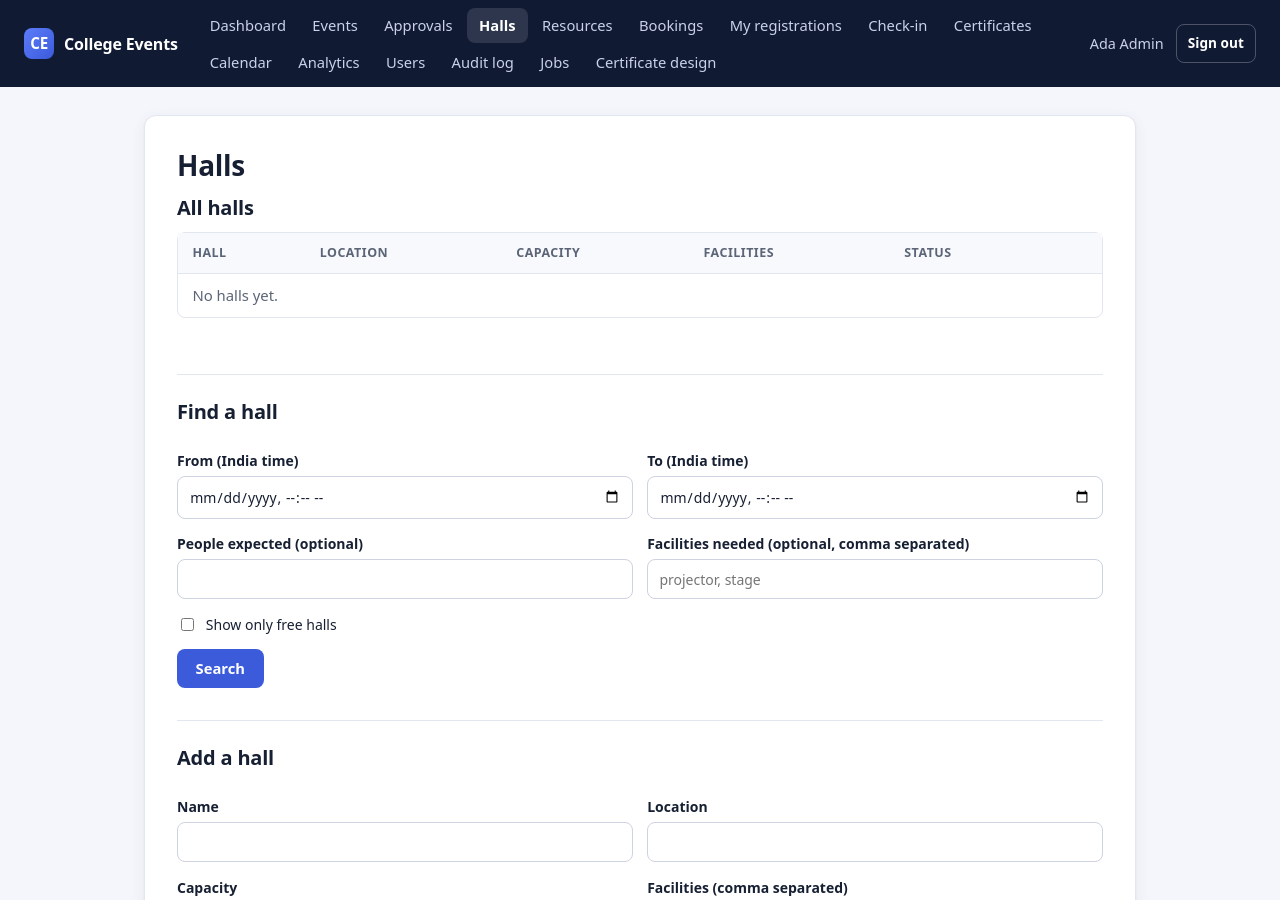
Test: halls page › lets an admin add a hall with facilities as tags, and shows server errors
The image size is (1280, 900).
Type "Lab 1" into the field labelled "Name".
click(405, 842); type("Lab 1")  # box [177, 822, 633, 862]
(page scrolled)
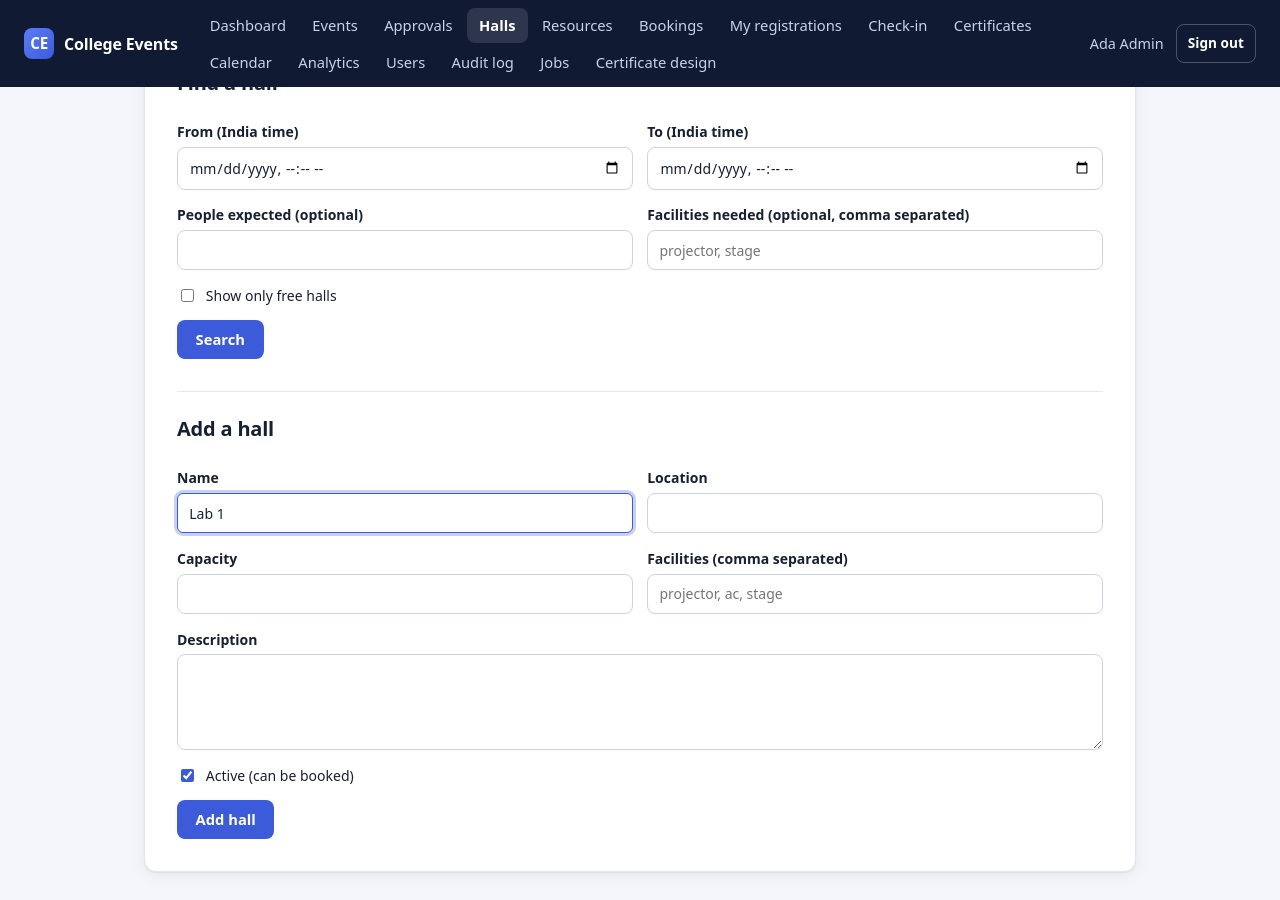
Type "40" into the number field labelled "Capacity".
click(405, 594); type("40")  # box [177, 574, 633, 614]
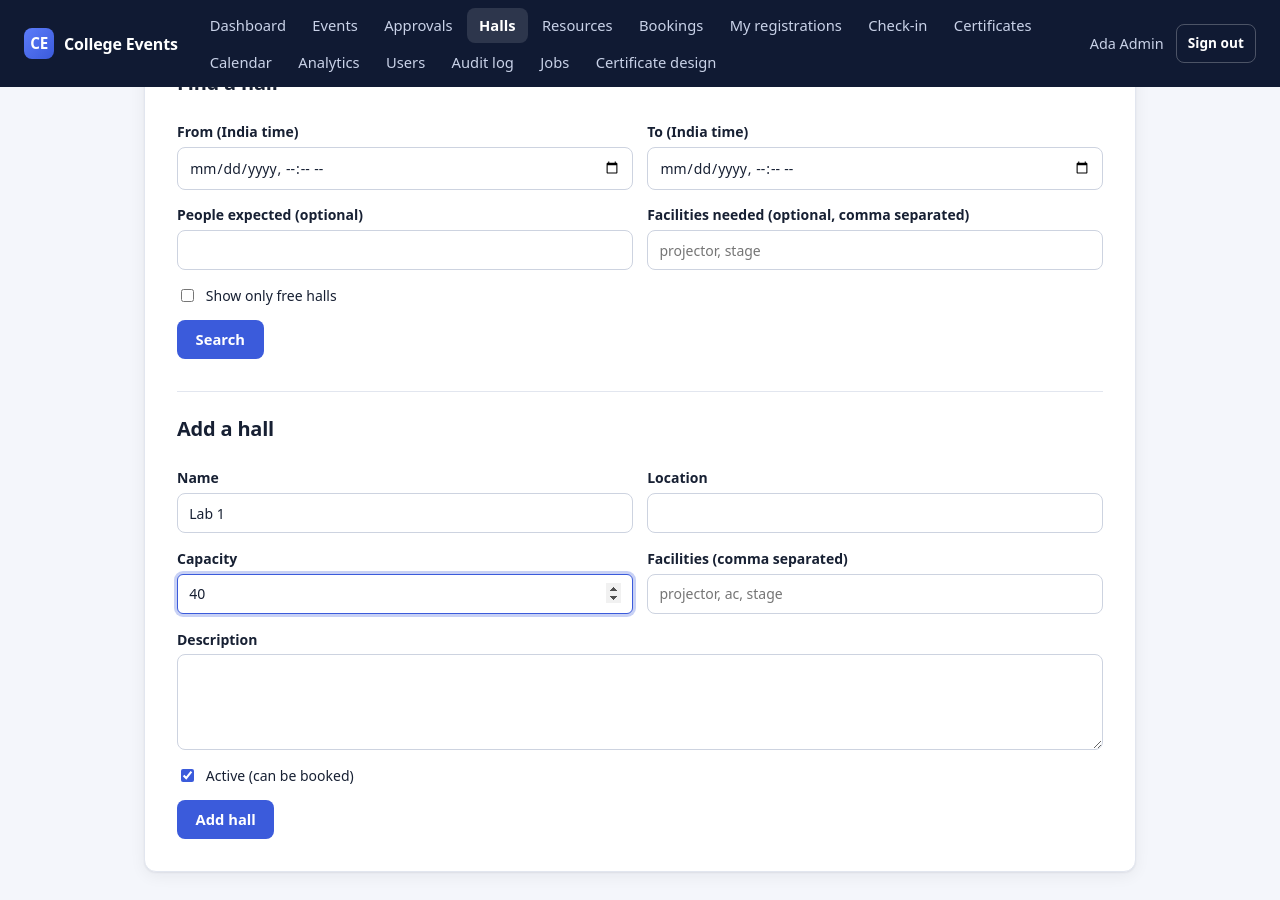
Type "projector, ac ," into the field labelled "Facilities (comma separated)".
click(875, 594); type("projector, ac ,")  # box [647, 574, 1103, 614]
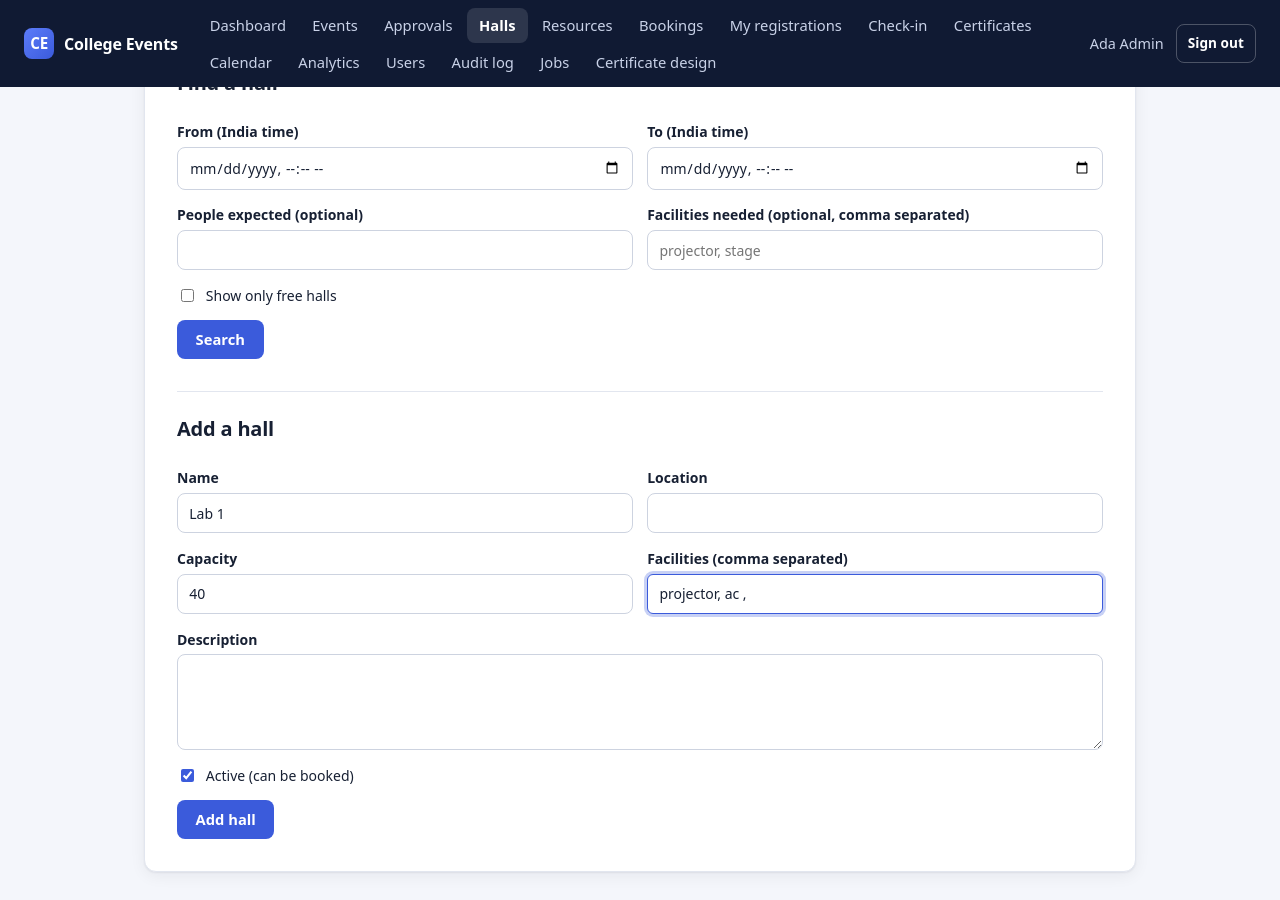
Click the button "Add hall".
click(226, 819)  # box [177, 800, 274, 839]
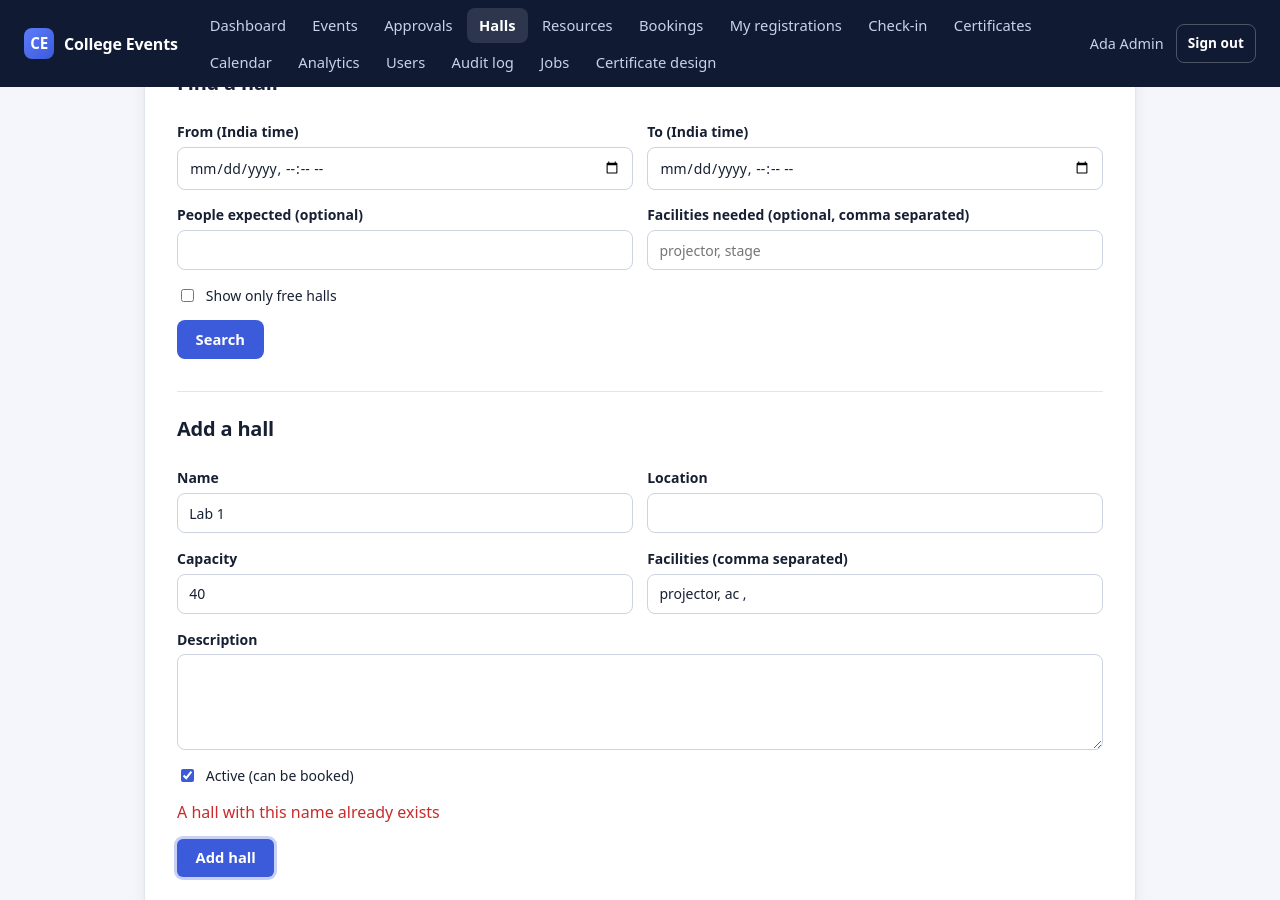
Result: the text "A hall with this name already exists" is shown at [177, 801, 440, 823]
